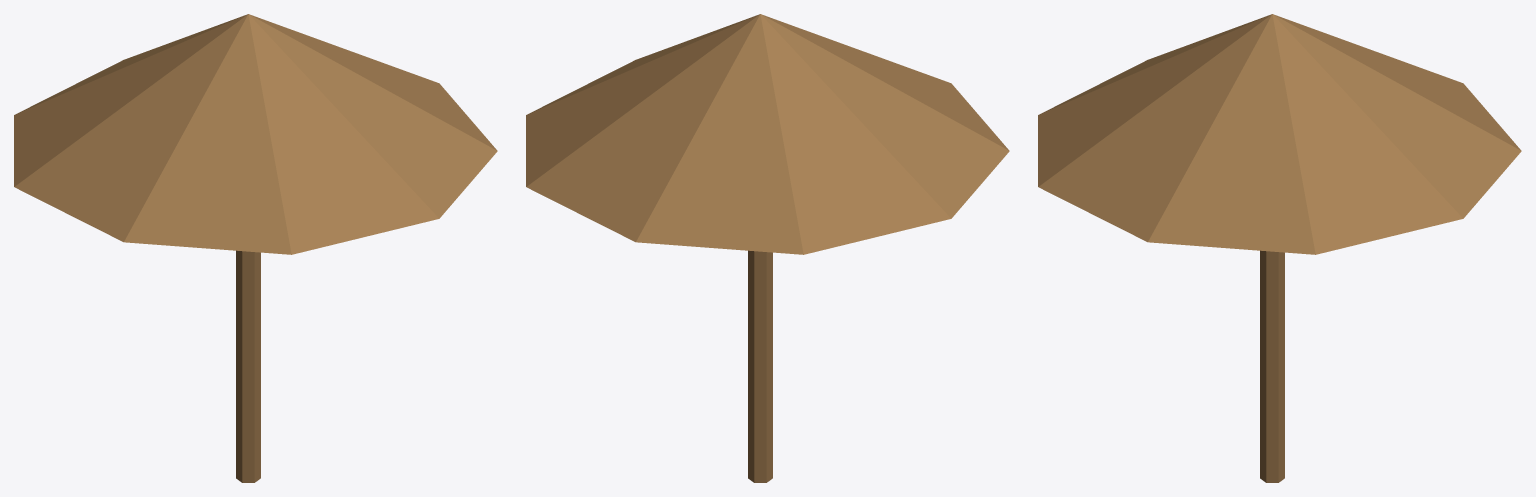
Rendered from sunscreen_01.fbx.
The picture shows the model from 3 angles, left to right: view 1: azimuth 30°, elevation 25°; view 2: azimuth 150°, elevation 25°; view 3: azimuth 270°, elevation 25°; orthographic projection.
Visible parts, largest first — view 1: sunscreen_01; view 2: sunscreen_01; view 3: sunscreen_01.
Boxes of the visible parts, x1,y1,x2,y2 form: sunscreen_01: (14,14,497,482); sunscreen_01: (526,14,1009,482); sunscreen_01: (1038,14,1521,482).
Bounding box in the file's own units: 232 × 242 × 228.
